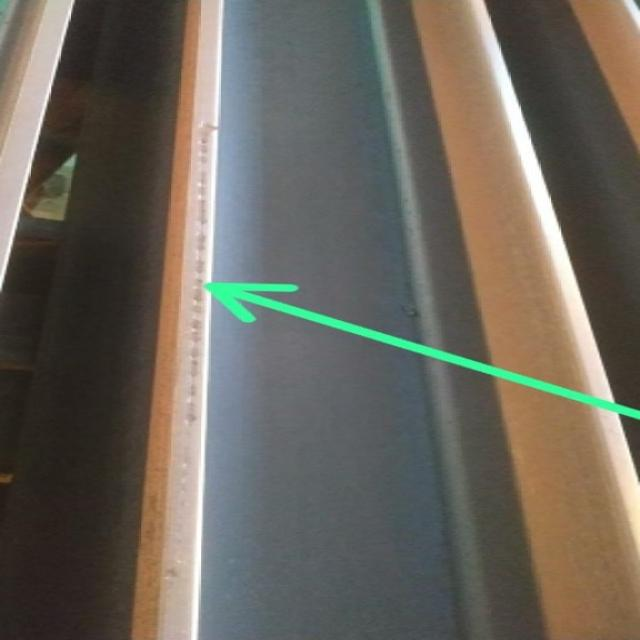defect: (185, 121, 216, 424)
